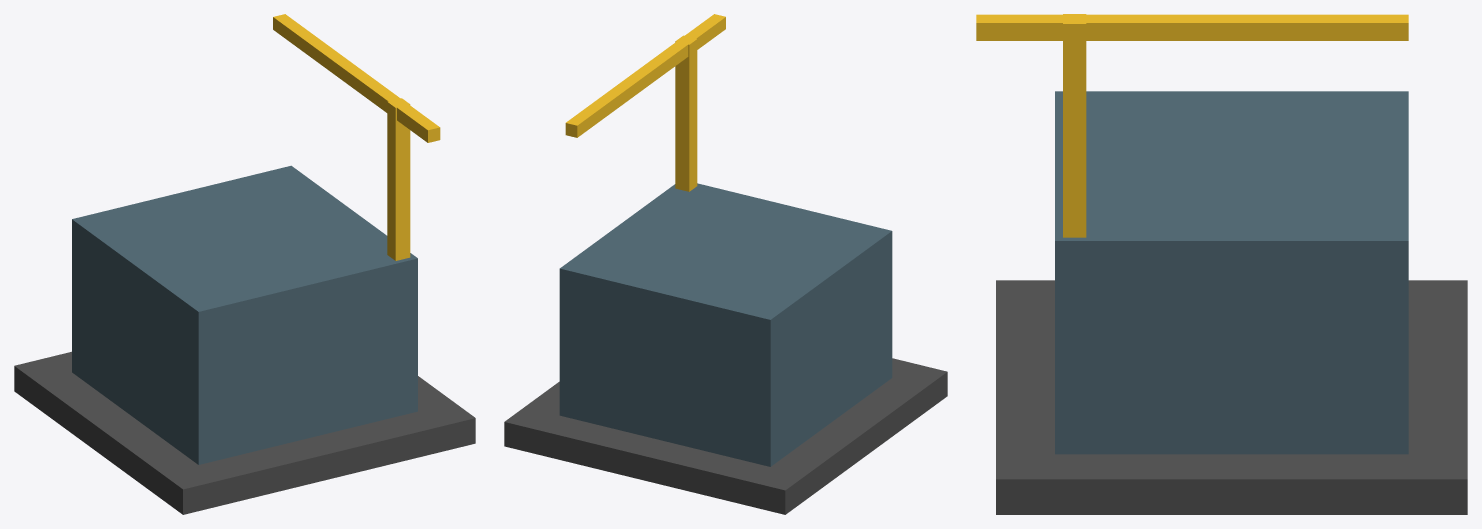
The model's file is construction_site.glb.
3 renders of one model, left to right at view 1: azimuth 30°, elevation 25°; view 2: azimuth 150°, elevation 25°; view 3: azimuth 270°, elevation 25°, orthographic. The views are drawn at different scales.
Size of the model in its own units: 24 by 26 by 25.
